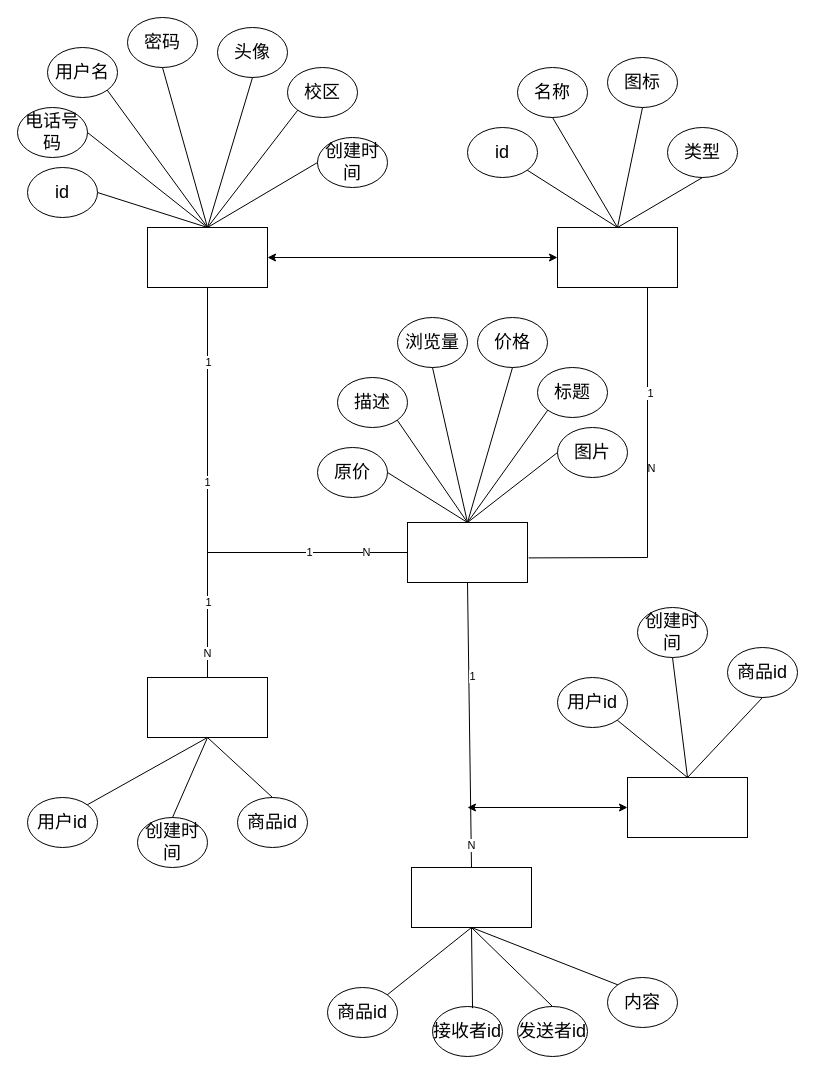
Image size: 815x1074. Some labels were removed from this diagram. The shapes that lost their labels are listed below. From the top down, each one's centre as x and y in pixels, then its label:
point (207, 257): 用户
point (617, 257): 商品类别
point (467, 552): 二手商品
point (207, 707): 用户收藏记录
point (687, 807): 浏览历史
point (471, 897): 消息
